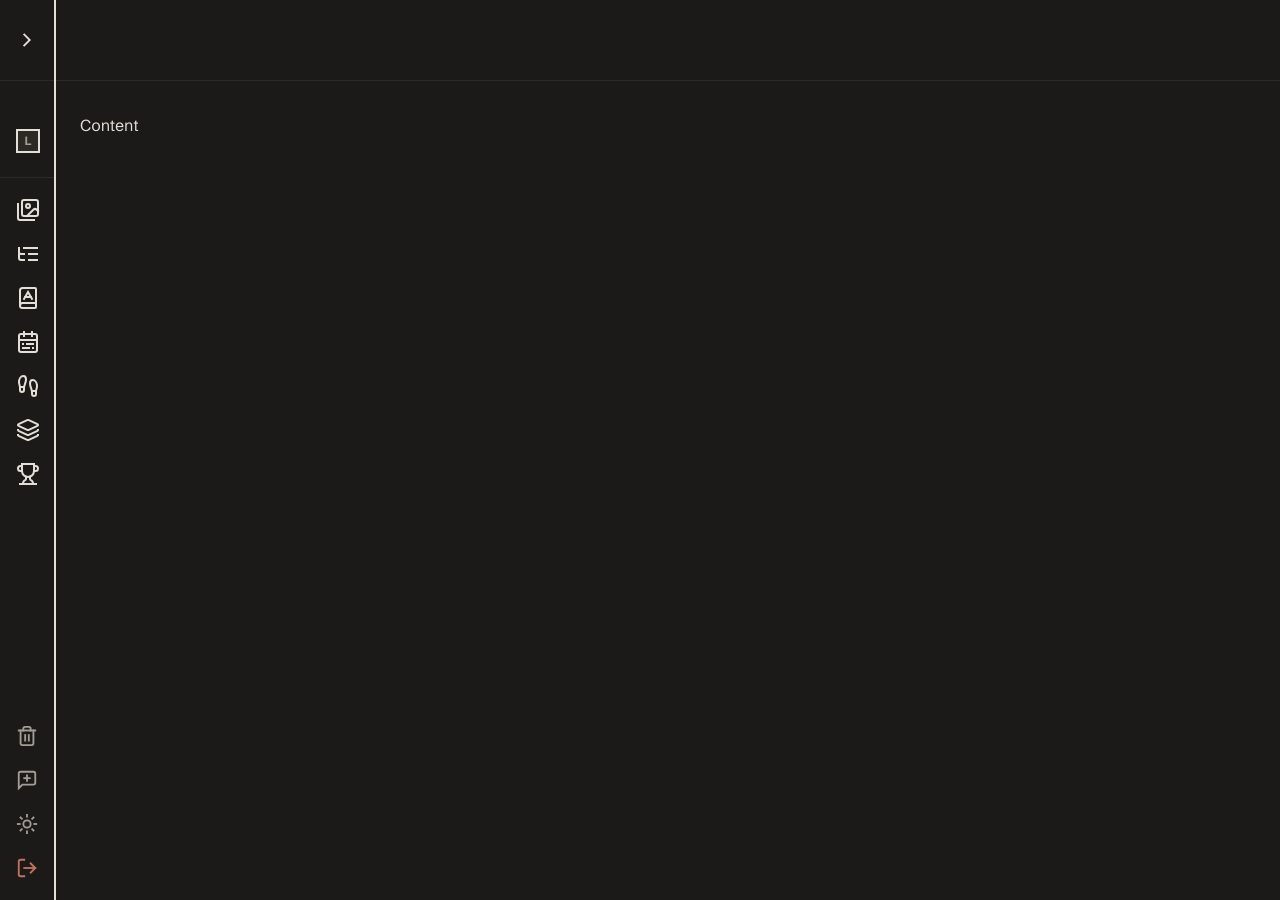
Test case: AtelierLayout › opens the feedback dialog from the menu
Click the 1st button named "Zgłoś uwagę" at (27, 780), box [0, 760, 54, 800]
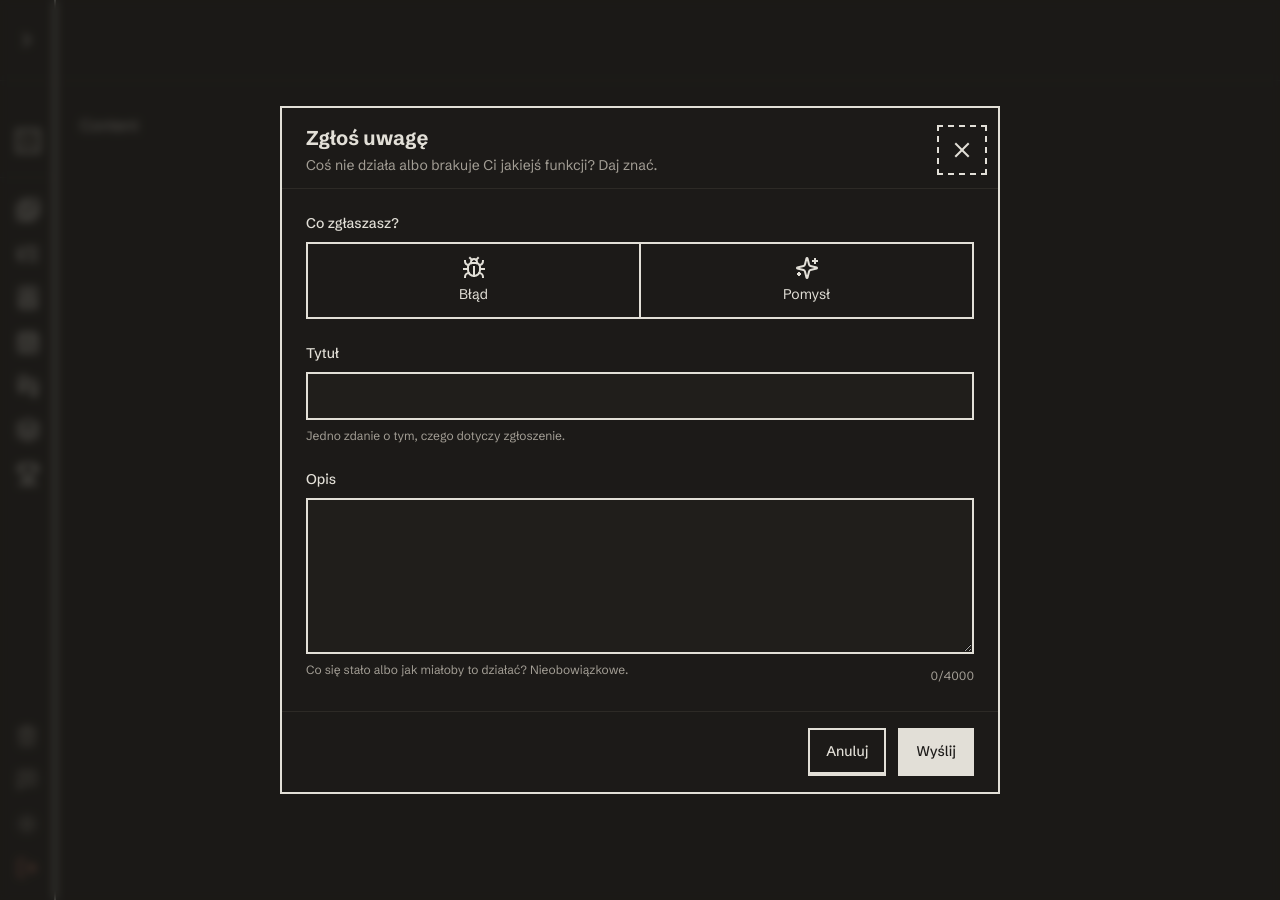
Now the dialog "Zgłoś uwagę" is shown, box [280, 106, 1000, 794]
